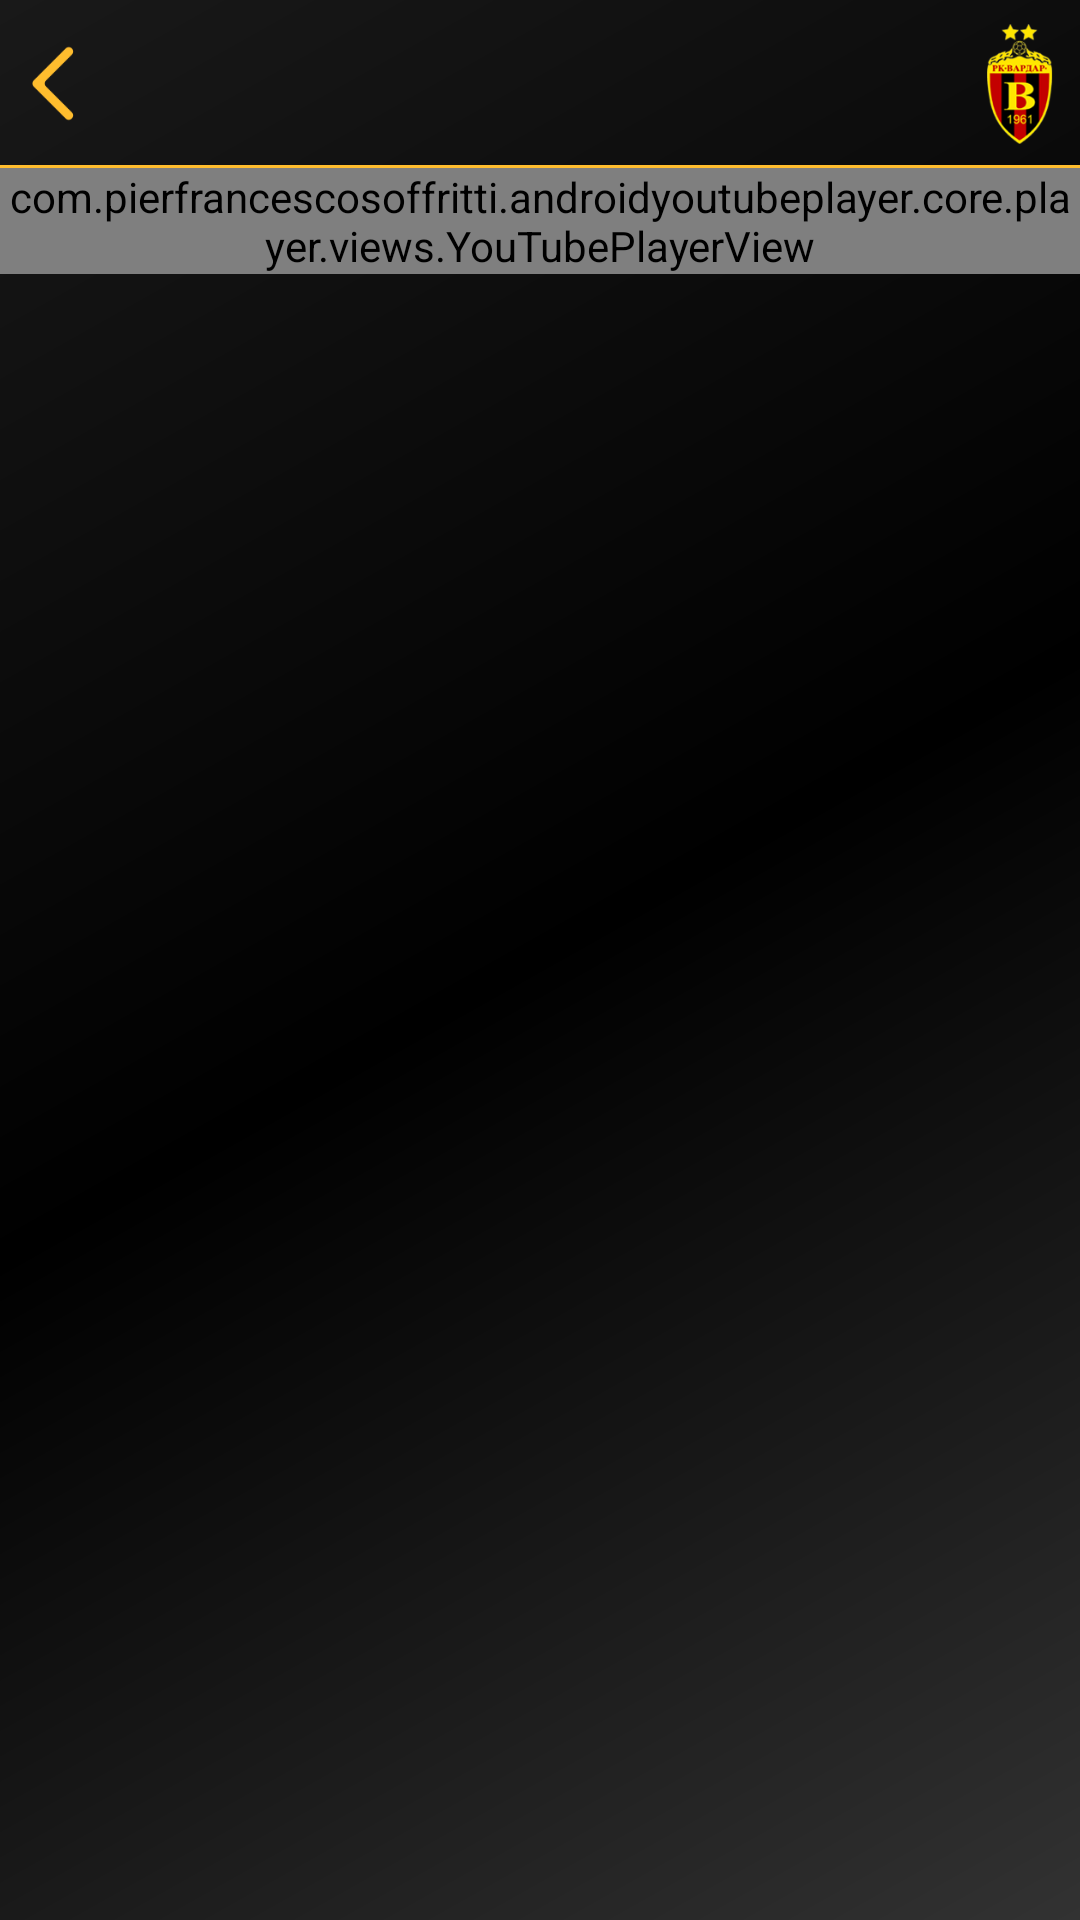

Screen size 1080 × 1920. Icon name, then its center in pixels as (x=x, y=y):
back: (x=53, y=84)
